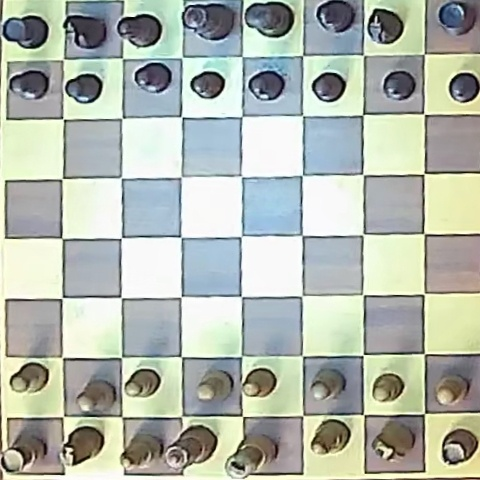black-bishop: (117, 14, 162, 48), (315, 0, 354, 34)
black-king: (245, 1, 293, 38)
black-knight: (64, 15, 107, 50), (367, 7, 404, 44)
black-pawn: (8, 69, 49, 100), (133, 62, 172, 94), (65, 73, 102, 103), (248, 71, 284, 101), (382, 70, 416, 101), (312, 72, 345, 102), (448, 72, 479, 103), (191, 71, 224, 98)
black-queen: (181, 3, 235, 41)
black-rook: (2, 15, 48, 49), (436, 1, 475, 37)
white-bishop: (311, 419, 350, 456), (120, 437, 160, 468)
white-king: (225, 435, 276, 479)
white-knight: (60, 426, 104, 466), (372, 421, 414, 462)
white-pawn: (76, 380, 115, 413), (10, 362, 48, 393), (197, 371, 232, 402), (311, 369, 344, 401), (125, 368, 160, 398), (242, 368, 276, 397), (435, 376, 467, 406), (372, 373, 404, 402)
white-queen: (164, 426, 215, 470)
white-rook: (0, 431, 46, 473), (441, 429, 478, 466)
